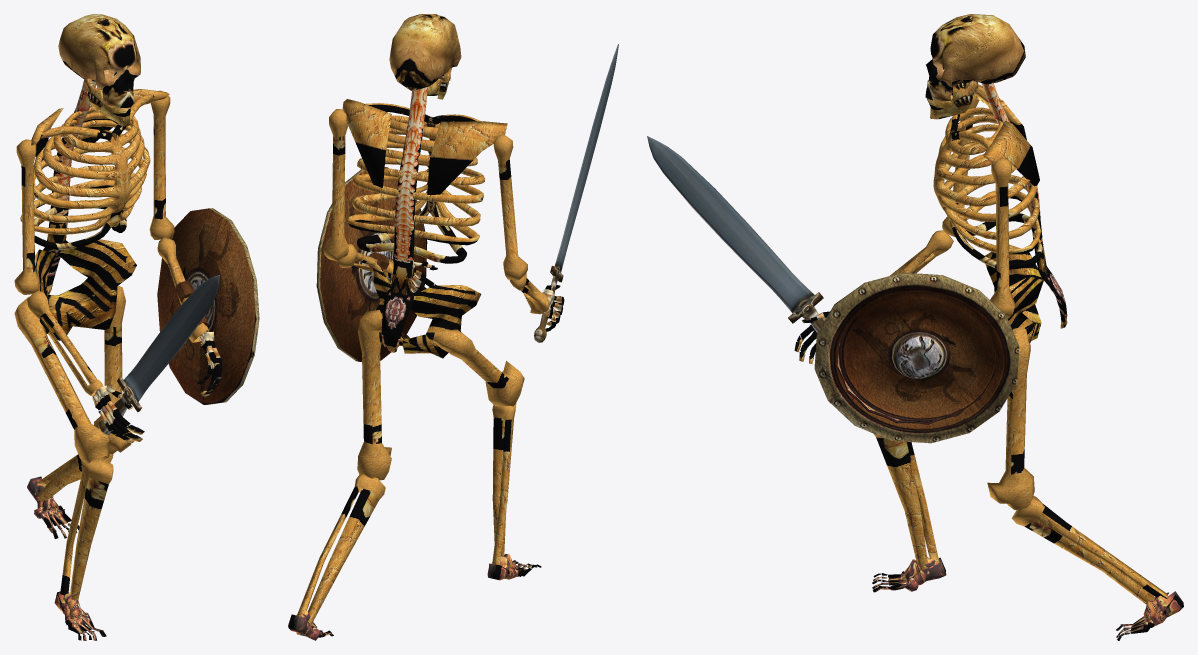
The model's file is Skeleton_000020.obj.
3 renders of one model, left to right at view 1: azimuth 30°, elevation 25°; view 2: azimuth 150°, elevation 25°; view 3: azimuth 270°, elevation 25°, orthographic. The views are drawn at different scales.
Visible parts, largest first — view 1: Shield_Shield.001, Costillar, Coxis, Femur, Skull, Tibia, Humero, Sword, Radio, Hands, Feet, Omoplato (+1 smaller); view 2: Costillar, Shield_Shield.001, Femur, Tibia, Omoplato, Humero, Skull, Coxis, Sword, Radio, Feet, Hands; view 3: Shield_Shield.001, Costillar, Tibia, Sword, Skull, Femur, Humero, Feet, Coxis, Omoplato, Mandibula, Radio.
Boxes of the visible parts, left/top/right/bottom form: Shield_Shield.001: left=157, top=208, right=259, bottom=404; Costillar: left=20, top=80, right=154, bottom=294; Coxis: left=35, top=239, right=136, bottom=340; Femur: left=14, top=285, right=131, bottom=464; Skull: left=58, top=14, right=140, bottom=108; Tibia: left=37, top=453, right=113, bottom=599; Humero: left=14, top=90, right=174, bottom=294; Sword: left=99, top=275, right=219, bottom=434; Radio: left=27, top=237, right=208, bottom=396; Hands: left=92, top=331, right=221, bottom=442; Feet: left=27, top=476, right=106, bottom=640; Omoplato: left=31, top=89, right=169, bottom=160; Costillar: left=347, top=87, right=484, bottom=352; Shield_Shield.001: left=316, top=167, right=427, bottom=361; Femur: left=357, top=309, right=524, bottom=480; Tibia: left=297, top=403, right=516, bottom=625; Omoplato: left=342, top=99, right=507, bottom=194; Humero: left=323, top=109, right=527, bottom=280; Skull: left=389, top=14, right=461, bottom=90; Coxis: left=373, top=263, right=481, bottom=358; Sword: left=534, top=44, right=618, bottom=342; Radio: left=338, top=244, right=549, bottom=314; Feet: left=288, top=554, right=541, bottom=640; Hands: left=411, top=260, right=564, bottom=331; Shield_Shield.001: left=814, top=272, right=1019, bottom=443; Costillar: left=933, top=83, right=1067, bottom=328; Tibia: left=874, top=434, right=1168, bottom=604; Sword: left=647, top=136, right=824, bottom=332; Skull: left=925, top=14, right=1025, bottom=101; Femur: left=987, top=326, right=1034, bottom=509; Humero: left=942, top=96, right=1015, bottom=318; Feet: left=872, top=556, right=1183, bottom=640; Coxis: left=985, top=244, right=1043, bottom=342; Omoplato: left=965, top=82, right=1039, bottom=186; Mandibula: left=926, top=80, right=978, bottom=119; Radio: left=890, top=230, right=953, bottom=275.
Size of the model in its own units: 2.83 by 8.29 by 6.69.
Materials: 5 (5 with a texture image).
